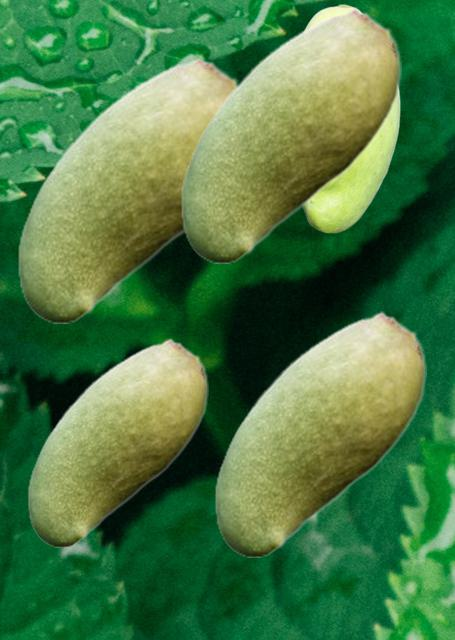green_mango: (17, 56, 239, 322), (180, 7, 400, 262), (214, 311, 425, 556), (27, 338, 207, 546), (302, 4, 399, 232)
